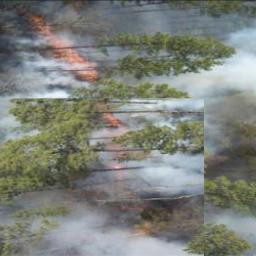Low smoke: (11, 186, 190, 255), (113, 5, 248, 80)
Small fire: (17, 6, 108, 93), (94, 102, 133, 180)
